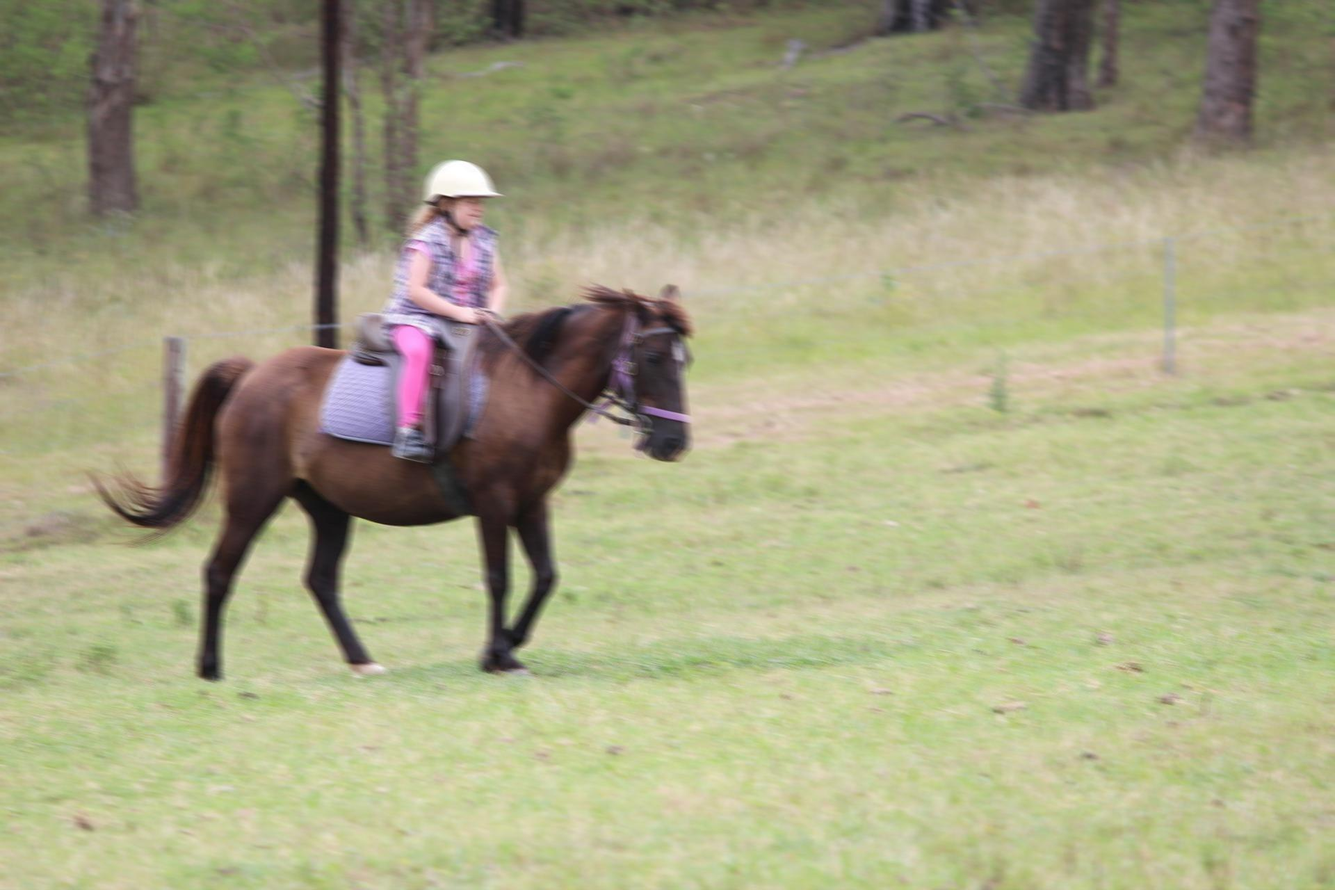horse: (78, 278, 703, 708)
